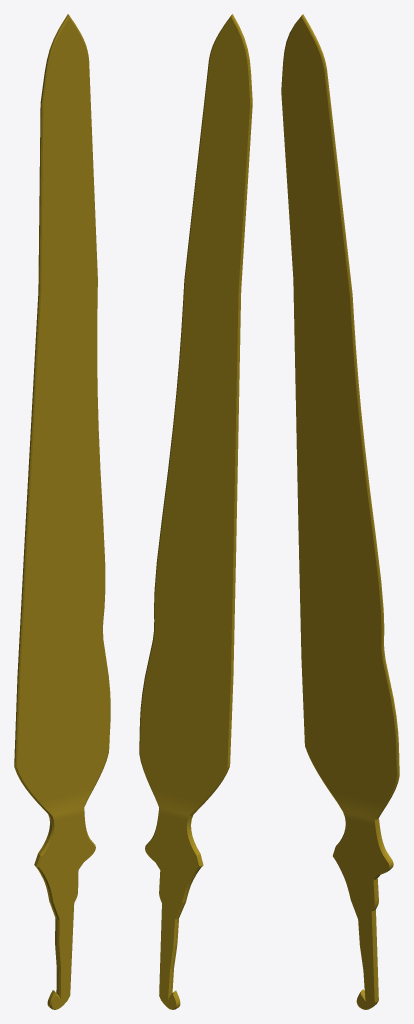
Rendered from persiansword.obj.
The picture shows the model from 3 angles, left to right: view 1: azimuth 30°, elevation 25°; view 2: azimuth 150°, elevation 25°; view 3: azimuth 330°, elevation 25°; orthographic projection. The views are drawn at different scales.
Parts seen in each view (by area): view 1: Line004; view 2: Line004; view 3: Line004.
Part boxes in pixels (<box>): Line004: <box>14,14,110,1009</box>; Line004: <box>139,14,252,1009</box>; Line004: <box>281,14,399,1009</box>.
Bounding box in the file's own units: 29.82 × 309 × 22.28.
